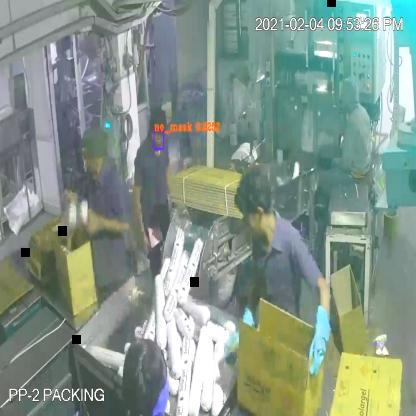glove: (302, 296, 338, 399)
no_glove: (84, 196, 131, 247), (131, 179, 155, 268)
